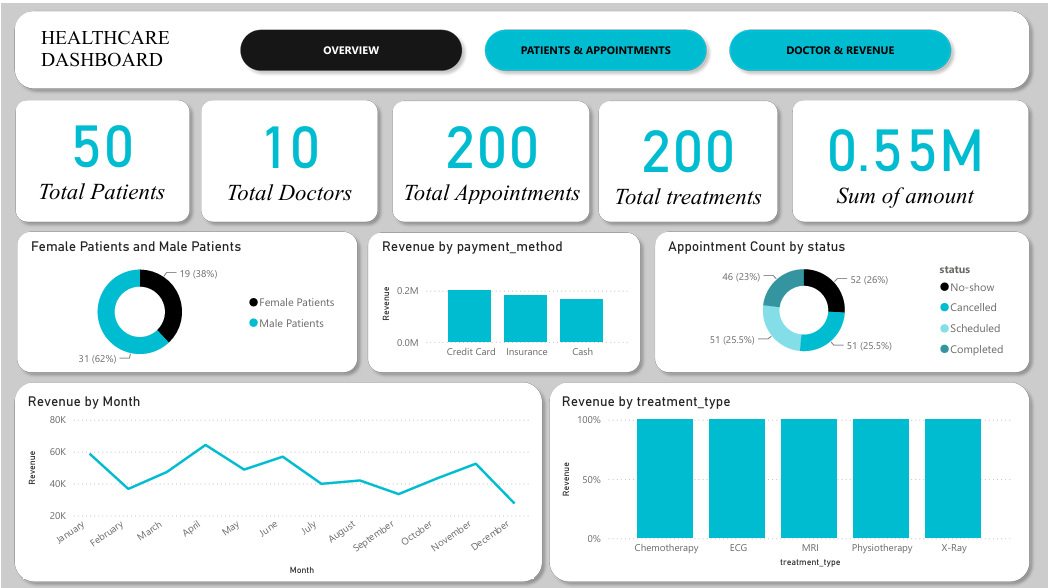

The page's visual inventory and layout, read from the dashboard file:
{"tool":"powerbi","page":{"name":"OVERVIEW","canvas":[1280,720],"ordinal":0},"visuals":[{"type":"shape","box":[7.2,0.4,1258.3,112.5],"z":0},{"type":"textbox","box":[43.5,22.6,194.3,68.6],"z":1000},{"type":"pageNavigator","box":[283.5,22.6,888.6,68.6],"z":2000},{"type":"shape","box":[7.8,108.8,231.4,167.1],"z":3000},{"type":"card","fields":{"Values":["all_measures.Total Patirnts"]},"box":[33.5,113.1,178.6,132.9],"z":4000},{"type":"shape","box":[957.8,108.8,307.1,167.1],"z":5000},{"type":"shape","box":[234.9,108.8,234.3,167.1],"z":6000},{"type":"shape","box":[469.2,110.2,258.6,165.7],"z":7000},{"type":"shape","box":[720.6,110.2,237.1,165.7],"z":8000},{"type":"card","fields":{"Values":["all_measures.Total Doctors"]},"box":[257.8,114.5,188.6,131.4],"z":9000},{"type":"card","fields":{"Values":["all_measures.Total Appointments"]},"box":[477.8,111.7,242.9,137.1],"z":10000},{"type":"card","fields":{"Values":["all_measures.Total treatments"]},"box":[737.8,118.8,202.9,132.9],"z":11000},{"type":"card","fields":{"Values":["Sum(billing.amount)"]},"box":[934.9,113.1,340,142.9],"z":12000},{"type":"shape","box":[10,270,434.3,190],"z":13000},{"type":"donutChart","fields":{"Y":["all_measures.Female Patients","all_measures.Male Patients"]},"box":[31.4,285.7,390,162.9],"z":14000},{"type":"shape","box":[7.1,454.3,662.9,261.4],"z":15000},{"type":"lineChart","fields":{"Category":["billing.bill_date.Variation.Date Hierarchy.Month","billing.bill_date.Variation.Date Hierarchy.Day"],"Y":["all_measures.Revenue"]},"box":[27.1,475.7,624.3,228.6],"z":16000},{"type":"shape","box":[790,270,475.7,190],"z":17000},{"type":"shape","box":[438.6,271.4,351.4,188.6],"z":18000},{"type":"clusteredColumnChart","fields":{"Category":["billing.payment_method"],"Y":["all_measures.Revenue"]},"box":[460,287.1,310,157.1],"z":19000},{"type":"donutChart","fields":{"Category":["appointments.status"],"Y":["all_measures.Appointment Count"]},"box":[810,287.1,430,157.1],"z":20000},{"type":"shape","box":[661.4,454.3,604.3,261.4],"z":21000},{"type":"hundredPercentStackedColumnChart","fields":{"Category":["treatments.treatment_type"],"Y":["all_measures.Revenue"]},"box":[680,475.7,560,218.6],"z":22000}]}

Visuals, with their boxes in screenshot pixels (x1, y1, x2, y2), scaled from the page's 1280x720 canvas onto the 1048x588 screenshot:
shape: <region>6, 0, 1036, 92</region>
textbox: <region>36, 18, 195, 74</region>
pageNavigator: <region>232, 18, 960, 74</region>
shape: <region>6, 89, 196, 225</region>
card - all_measures.Total Patirnts: <region>27, 92, 174, 201</region>
shape: <region>784, 89, 1036, 225</region>
shape: <region>192, 89, 384, 225</region>
shape: <region>384, 90, 596, 225</region>
shape: <region>590, 90, 784, 225</region>
card - all_measures.Total Doctors: <region>211, 94, 365, 201</region>
card - all_measures.Total Appointments: <region>391, 91, 590, 203</region>
card - all_measures.Total treatments: <region>604, 97, 770, 206</region>
card - Sum(billing.amount): <region>765, 92, 1044, 209</region>
shape: <region>8, 220, 364, 376</region>
donutChart - all_measures.Female Patients x all_measures.Male Patients: <region>26, 233, 345, 366</region>
shape: <region>6, 371, 549, 584</region>
lineChart - billing.bill_date.Variation.Date Hierarchy.Month x billing.bill_date.Variation.Date Hierarchy.Day: <region>22, 388, 533, 575</region>
shape: <region>647, 220, 1036, 376</region>
shape: <region>359, 222, 647, 376</region>
clusteredColumnChart - billing.payment_method x all_measures.Revenue: <region>377, 234, 630, 363</region>
donutChart - appointments.status x all_measures.Appointment Count: <region>663, 234, 1015, 363</region>
shape: <region>542, 371, 1036, 584</region>
hundredPercentStackedColumnChart - treatments.treatment_type x all_measures.Revenue: <region>557, 388, 1015, 567</region>
